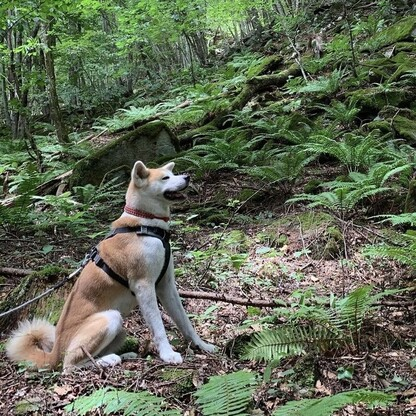akita: (1, 152, 229, 376)
